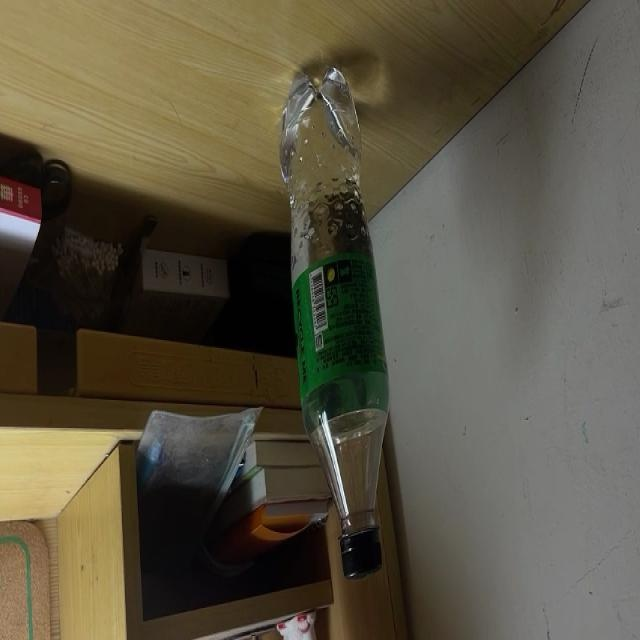Sprite: (276, 66, 391, 582)
